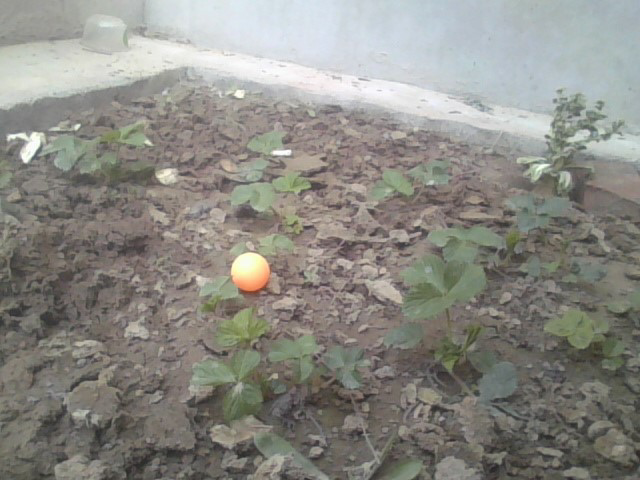ball: (232, 253, 271, 293)
